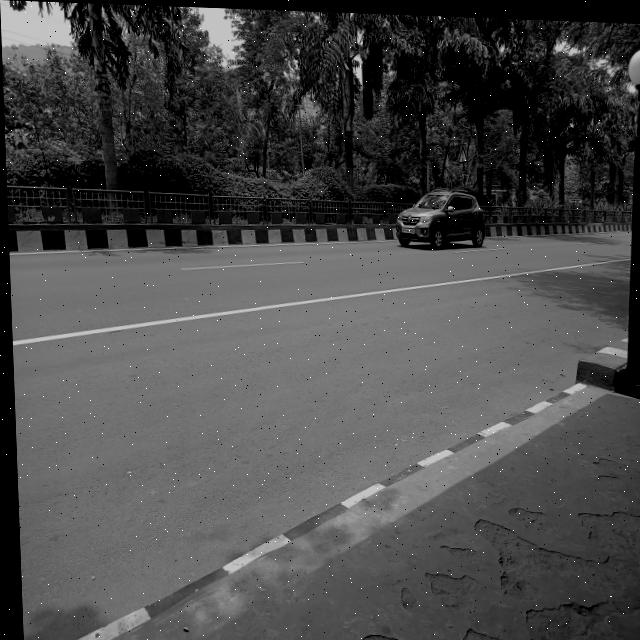car: (387, 167, 494, 251)
